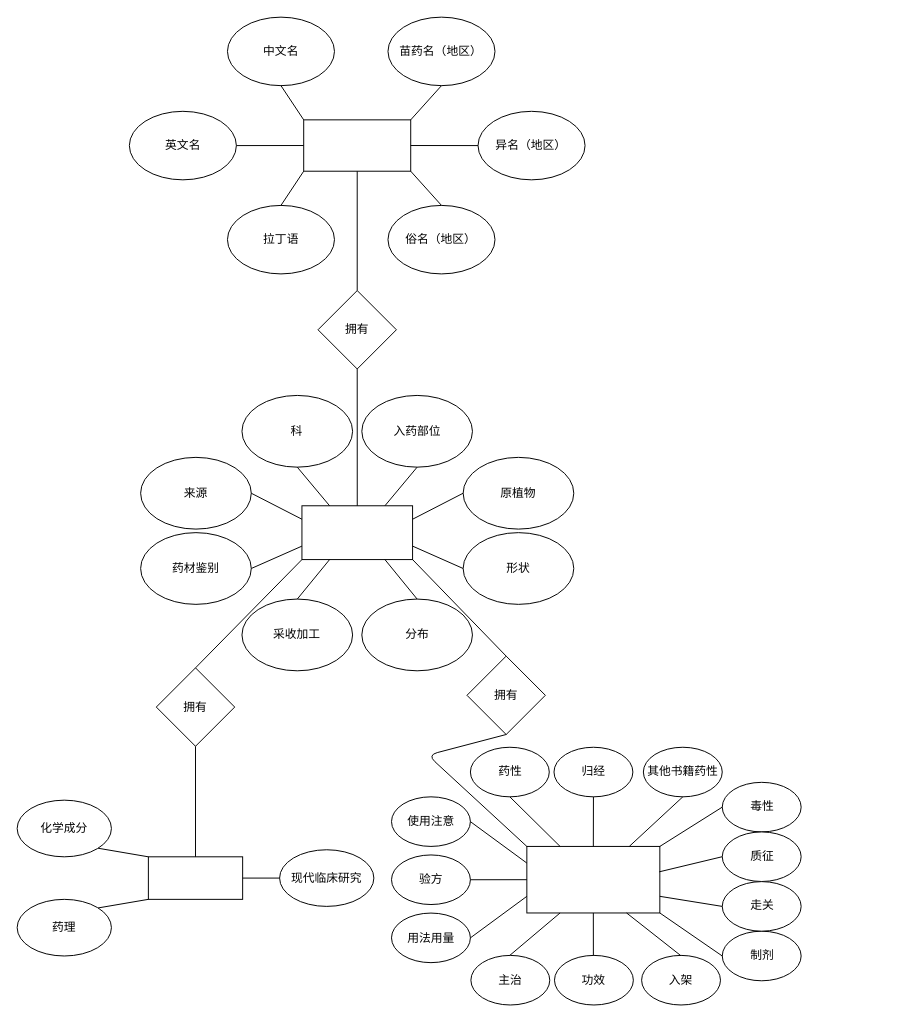
The diagram is 912 pixels wide and 1022 high, and some of its shapes have lost their labels. Here are the shapes that lost their labels. From the top down, the centre of each, then its label:
point (357, 145): 苗医药名称
point (357, 532): 一般特征
point (195, 877): 现代医学特征
point (593, 879): 民族医学特征
